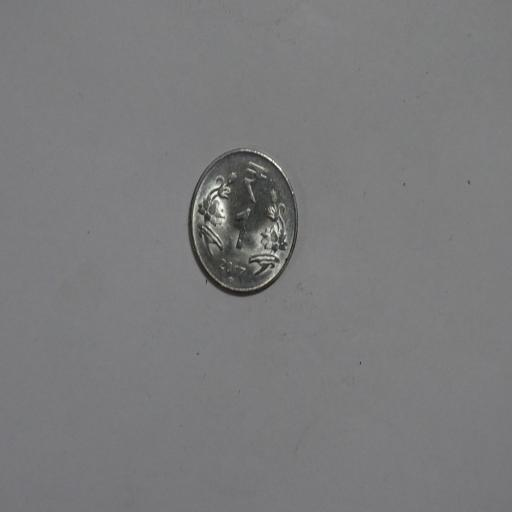rupee1: (183, 145, 302, 300)
